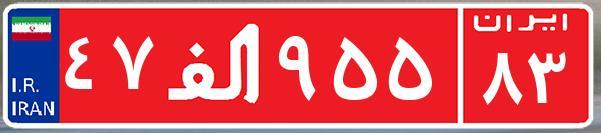3: (525, 38, 570, 115)
4: (57, 26, 110, 107)
5: (385, 28, 445, 110), (330, 28, 385, 110)
7: (110, 28, 158, 105)
8: (475, 38, 525, 113)
9: (273, 28, 330, 110)
الف: (158, 15, 273, 115)
